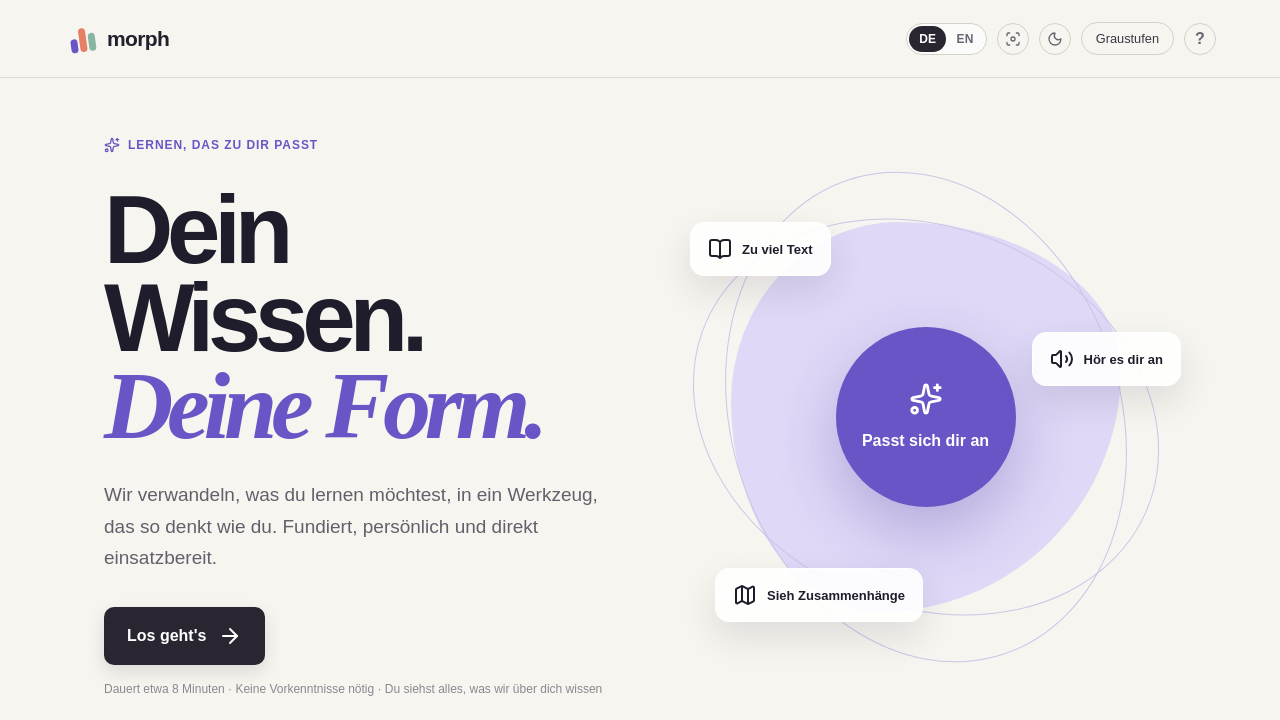
Test: App › jumps into the application flow from "Los geht's"
The width and height of the screenshot is (1280, 720).
Step 1. Click the button "Los geht's" → {"x": 185, "y": 636}, box [104,607,265,665]
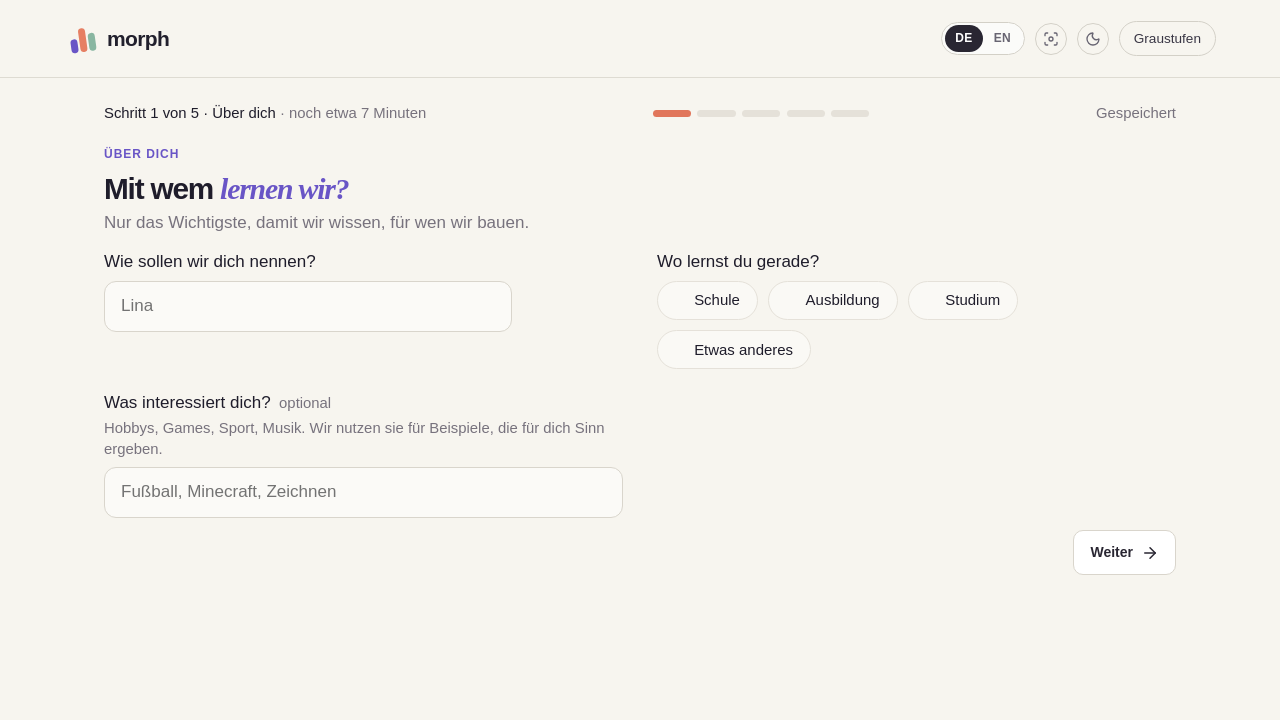
Expected: the heading "Mit wem lernen wir?" is shown, [104,172,348,205]
